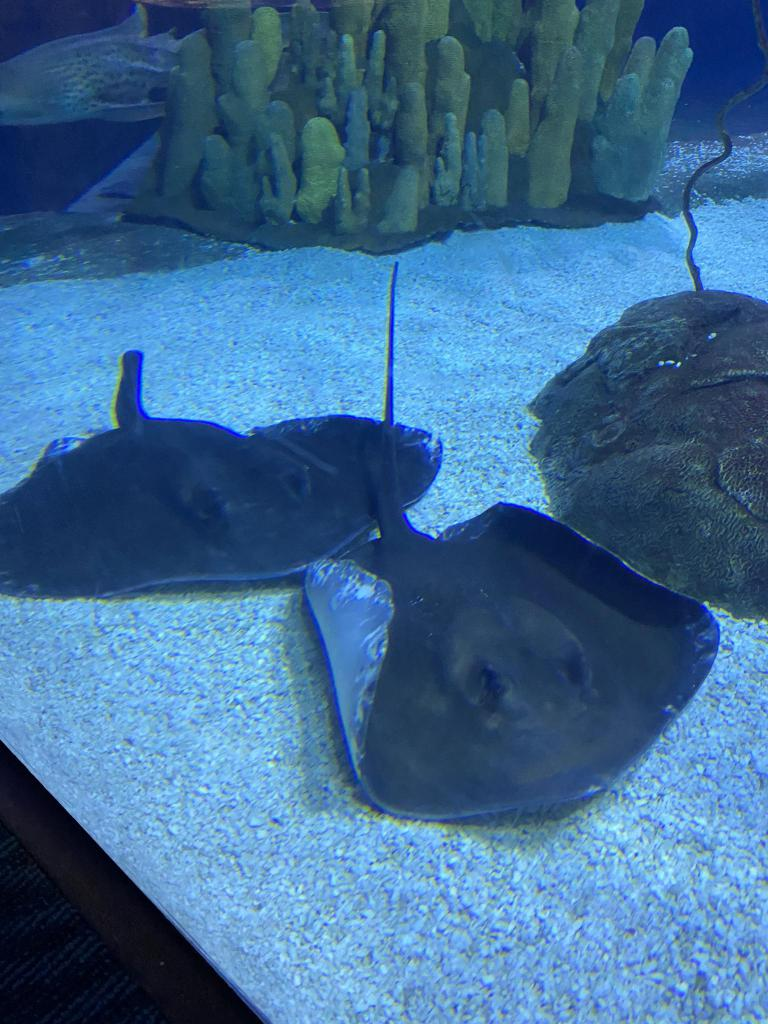shark: (0, 0, 242, 130)
stingray: (295, 501, 717, 821), (0, 414, 445, 601)
